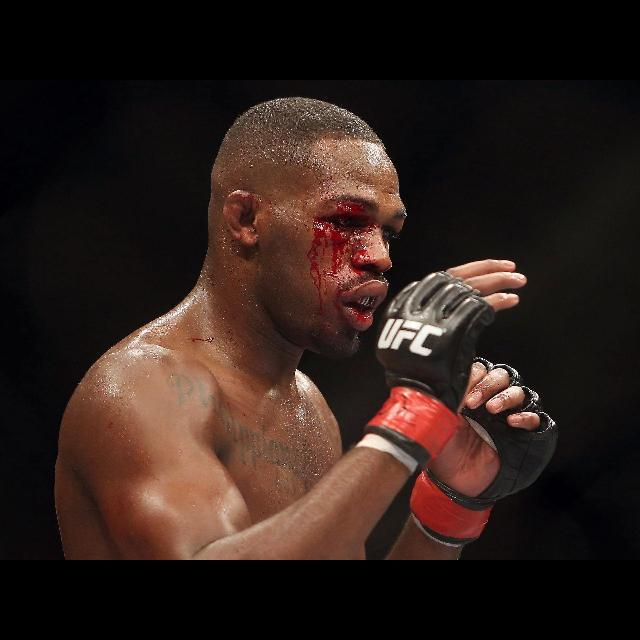blood: (306, 199, 404, 325), (191, 336, 214, 343)
